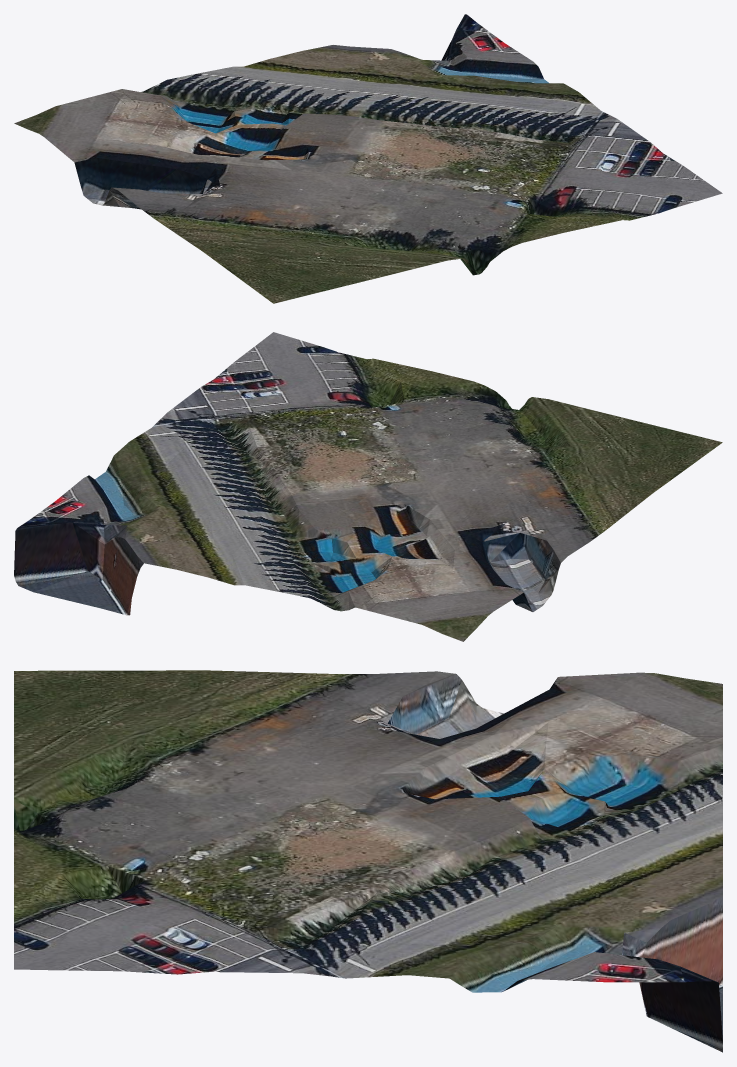
File: map_15_8185_13782.dae
The picture shows the model from 3 angles, top to bottom: view 1: azimuth 30°, elevation 25°; view 2: azimuth 150°, elevation 25°; view 3: azimuth 270°, elevation 25°; orthographic projection. The views are drawn at different scales.
Parts seen in each view (by area): view 1: Ter0; view 2: Ter0; view 3: Ter0.
Boxes of the visible parts, box(x1,y1,x2,y2) form: Ter0: box(14, 14, 722, 303); Ter0: box(14, 332, 722, 641); Ter0: box(14, 670, 722, 1052).
Bounding box in the file's own units: 63.87 × 63.88 × 9.07.
2 materials, 2 textured.
